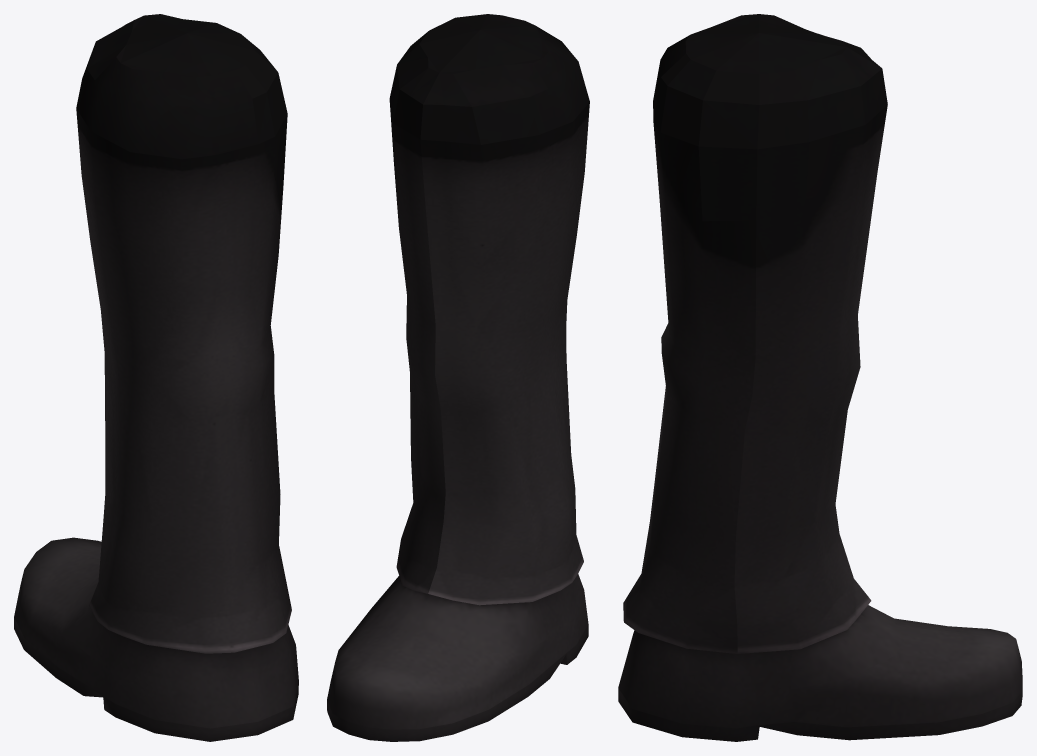
The picture shows the model from 3 angles, left to right: view 1: azimuth 30°, elevation 25°; view 2: azimuth 150°, elevation 25°; view 3: azimuth 270°, elevation 25°; orthographic projection. The views are drawn at different scales.
Parts seen in each view (by area): view 1: Mesh; view 2: Mesh; view 3: Mesh.
Boxes of the visible parts, x1,y1,x2,y2 form: Mesh: [14, 14, 298, 741]; Mesh: [327, 14, 589, 741]; Mesh: [618, 14, 1022, 741].
Size of the model in its own units: 0.675 by 2.33 by 1.28.
